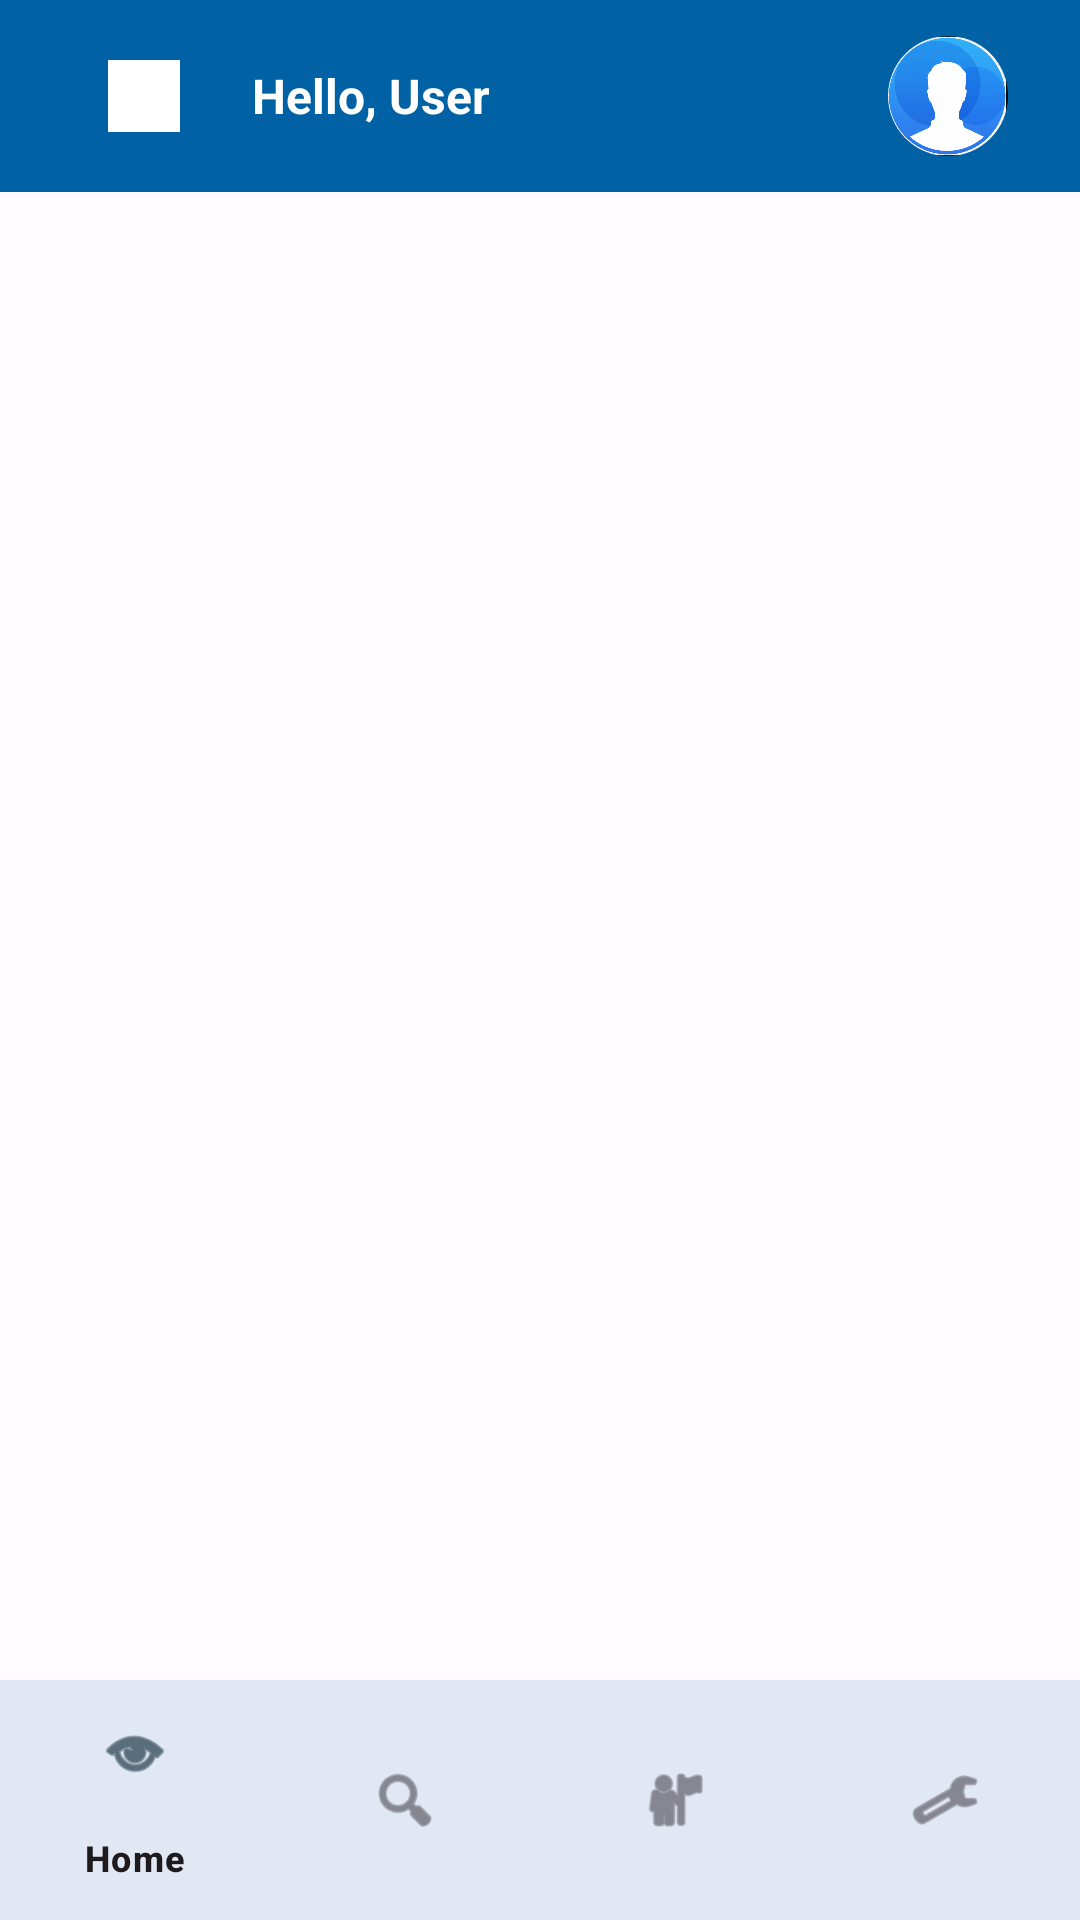

Icon click points for this 1080×1920 phone screenshot, format (x,y):
Profile: (948,96)
